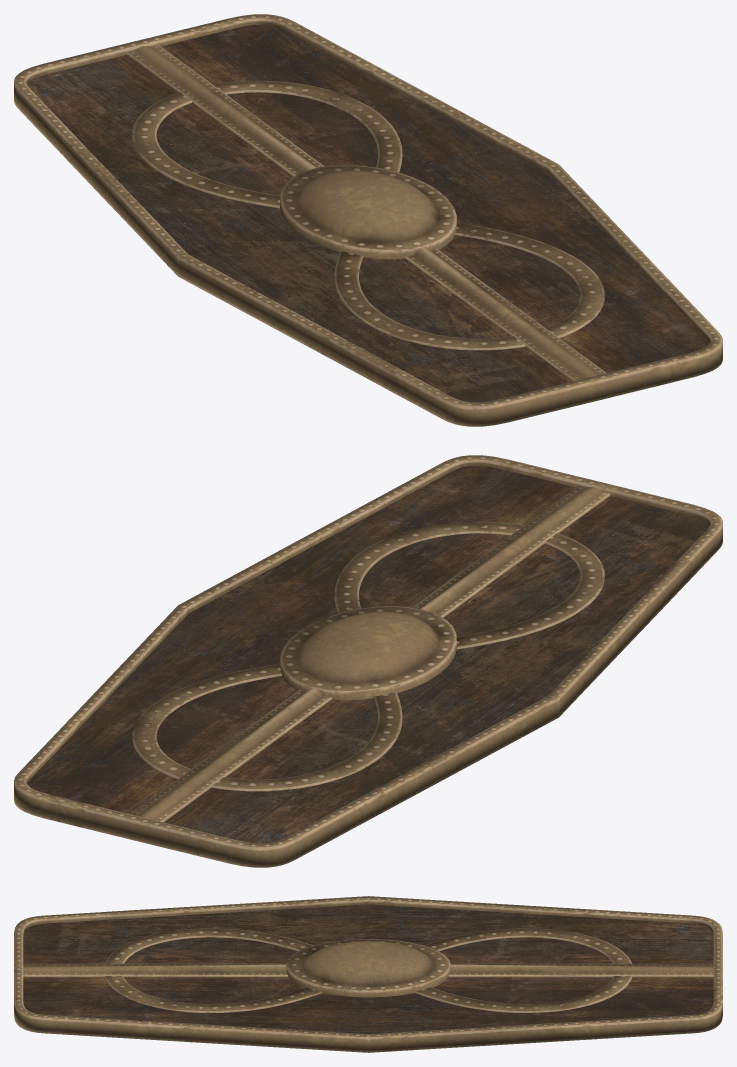
Rendered from dunland_wulf_shield_medium_b.fbx.
3 views of the same model, one above another, from view 1: azimuth 30°, elevation 25°; view 2: azimuth 150°, elevation 25°; view 3: azimuth 270°, elevation 25° (orthographic). The views are drawn at different scales.
Parts seen in each view (by area): view 1: dunland_wulf_shield_medium_b; view 2: dunland_wulf_shield_medium_b; view 3: dunland_wulf_shield_medium_b.
Part boxes in pixels (x1,y1,x2,y2): dunland_wulf_shield_medium_b: [14, 14, 722, 426]; dunland_wulf_shield_medium_b: [14, 455, 722, 867]; dunland_wulf_shield_medium_b: [14, 896, 722, 1052].
Bounding box in the file's own units: 0.72 × 1.52 × 0.0806.
1 material, 1 textured.
